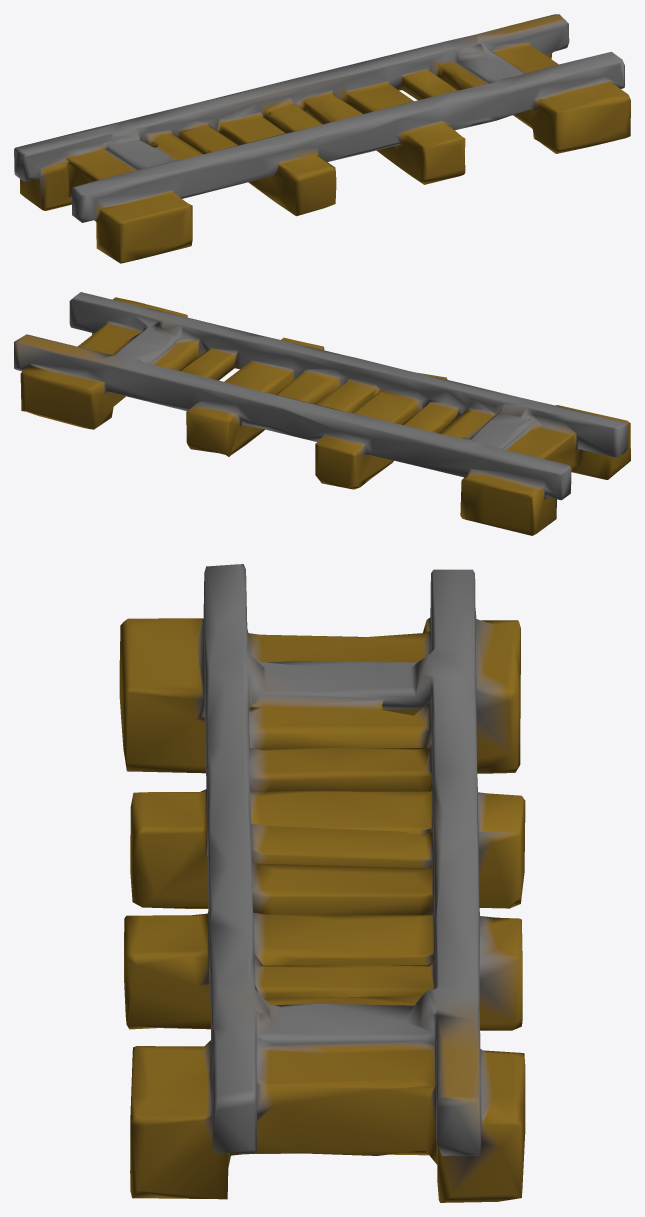
File: gen3d-rail-lod0.glb
3 renders of one model, top to bottom at view 1: azimuth 30°, elevation 25°; view 2: azimuth 150°, elevation 25°; view 3: azimuth 270°, elevation 25°, orthographic. The views are drawn at different scales.
Visible parts, largest first — view 1: part_0; view 2: part_0; view 3: part_0.
Boxes of the visible parts, left/top/right/bottom form: part_0: left=14, top=14, right=630, bottom=263; part_0: left=14, top=292, right=630, bottom=535; part_0: left=119, top=564, right=525, bottom=1202.
Size of the model in its own units: 8.94 by 0.9978 by 2.87.
